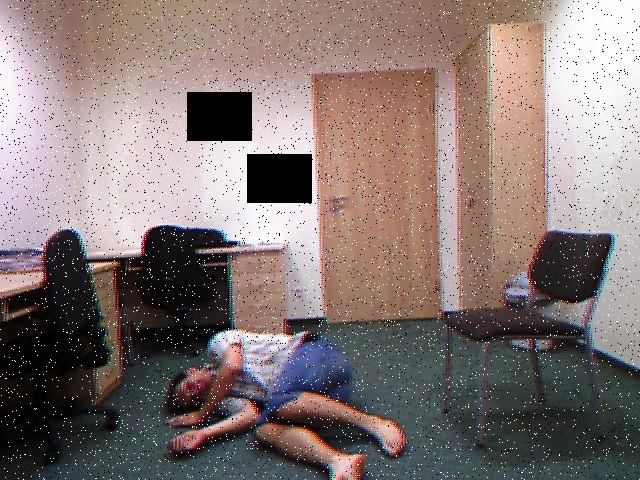fall: (159, 317, 416, 480)
